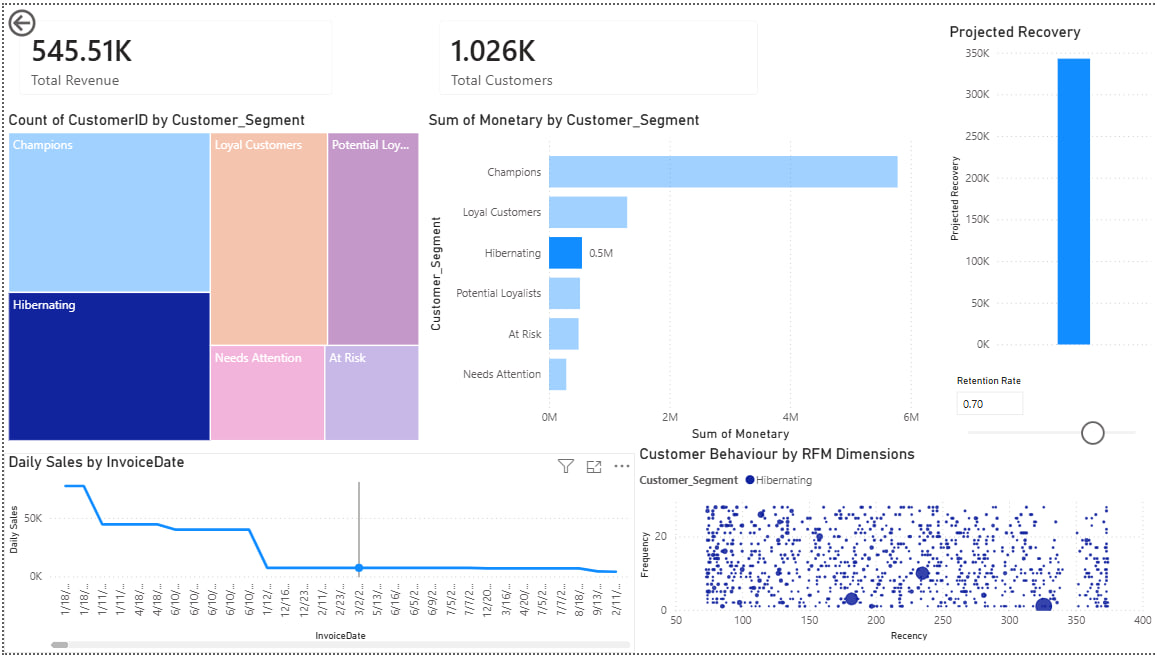

This screenshot's page, from the dashboard's own definition file:
{"tool":"powerbi","page":{"name":"Page 1","canvas":[1280,720],"ordinal":0},"visuals":[{"type":"treemap","fields":{"Group":["Fact_RFM.Customer_Segment"],"Values":["CountNonNull(Fact_RFM.CustomerID)"]},"box":[0,117.5,466.2,371.2],"z":0},{"type":"clusteredBarChart","fields":{"Category":["Fact_RFM.Customer_Segment"],"Y":["Sum(Fact_RFM.Monetary)"]},"box":[466.2,117.5,578.8,371.2],"z":1},{"type":"cardVisual","fields":{"Data":["Sum(Fact_RFM.Monetary)"]},"box":[0,0,466.2,117.5],"z":2},{"type":"cardVisual","fields":{"Data":["CountNonNull(Fact_RFM.CustomerID)"]},"box":[468.8,0,576.2,117.5],"z":3},{"type":"lineChart","fields":{"Y":["Sum(Fact_RFM.Monetary)"],"Category":["data.InvoiceDate"]},"box":[0,498.2,1170,221.8],"z":4},{"type":"slicer","fields":{"Values":["Retention Rate.Retention Rate"]},"box":[1045,498.8,235,102.5],"z":5},{"type":"actionButton","box":[0,0,100,40],"z":6},{"type":"clusteredColumnChart","fields":{"Y":["Fact_RFM.Projected Recovery"]},"box":[1045,117.5,235,371.2],"z":7}]}

Visuals, with their boxes in screenshot pixels (x1, y1, x2, y2), scaled from the page's 1280x720 canvas onto the 1155x656 screenshot:
treemap - Fact_RFM.Customer_Segment x CountNonNull(Fact_RFM.CustomerID): Rect(0, 107, 421, 445)
clusteredBarChart - Fact_RFM.Customer_Segment x Sum(Fact_RFM.Monetary): Rect(421, 107, 943, 445)
cardVisual - Sum(Fact_RFM.Monetary): Rect(0, 0, 421, 107)
cardVisual - CountNonNull(Fact_RFM.CustomerID): Rect(423, 0, 943, 107)
lineChart - Sum(Fact_RFM.Monetary) x data.InvoiceDate: Rect(0, 454, 1056, 655)
slicer - Retention Rate.Retention Rate: Rect(943, 454, 1154, 548)
actionButton: Rect(0, 0, 90, 36)
clusteredColumnChart - Fact_RFM.Projected Recovery: Rect(943, 107, 1154, 445)
